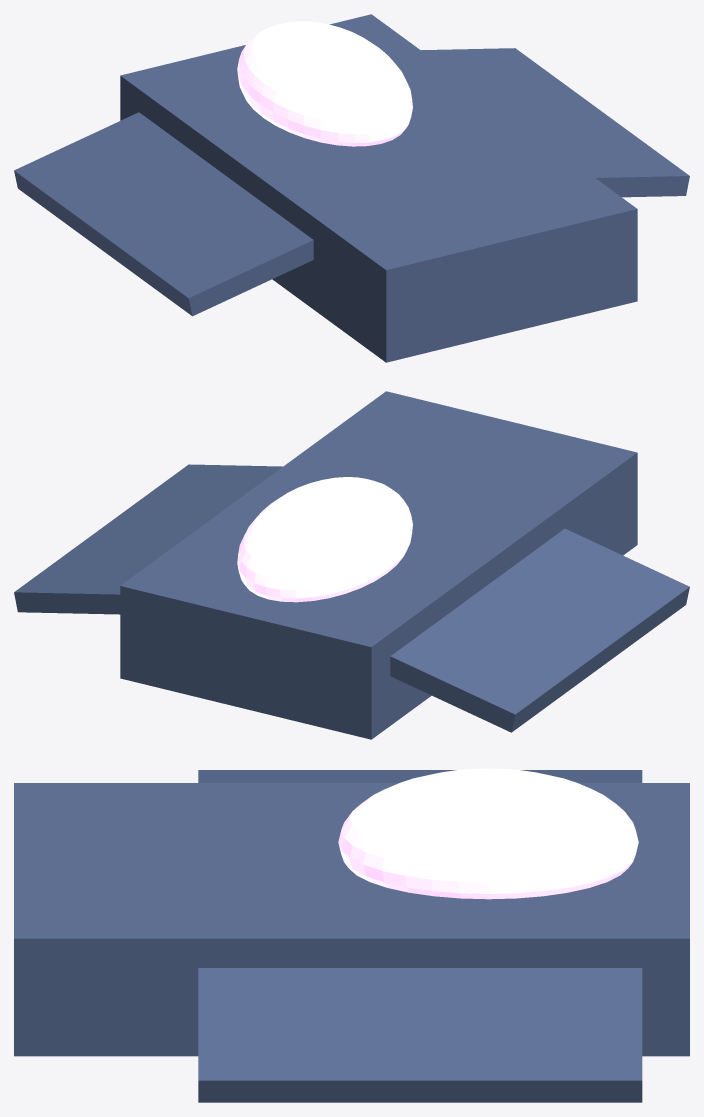
The model's file is scout.glb.
3 views of the same model, one above another, from view 1: azimuth 30°, elevation 25°; view 2: azimuth 150°, elevation 25°; view 3: azimuth 270°, elevation 25° (orthographic). The views are drawn at different scales.
Visible parts, largest first — view 1: Cube, Cube.002, Sphere, Cube.001; view 2: Cube, Cube.002, Sphere, Cube.001; view 3: Cube, Cube.001, Sphere, Cube.002.
Boxes of the visible parts, left/top/right/bottom form: Cube: left=120, top=14, right=637, bottom=362; Cube.002: left=14, top=112, right=313, bottom=316; Sphere: left=237, top=21, right=412, bottom=146; Cube.001: left=421, top=48, right=689, bottom=197; Cube: left=120, top=391, right=637, bottom=739; Cube.002: left=390, top=528, right=689, bottom=732; Sphere: left=237, top=477, right=412, bottom=602; Cube.001: left=14, top=464, right=282, bottom=614; Cube: left=14, top=783, right=689, bottom=1056; Cube.001: left=198, top=968, right=642, bottom=1102; Sphere: left=338, top=768, right=638, bottom=899; Cube.002: left=198, top=770, right=642, bottom=782.
Bounding box in the file's own units: 2.15 × 0.64 × 1.98.
